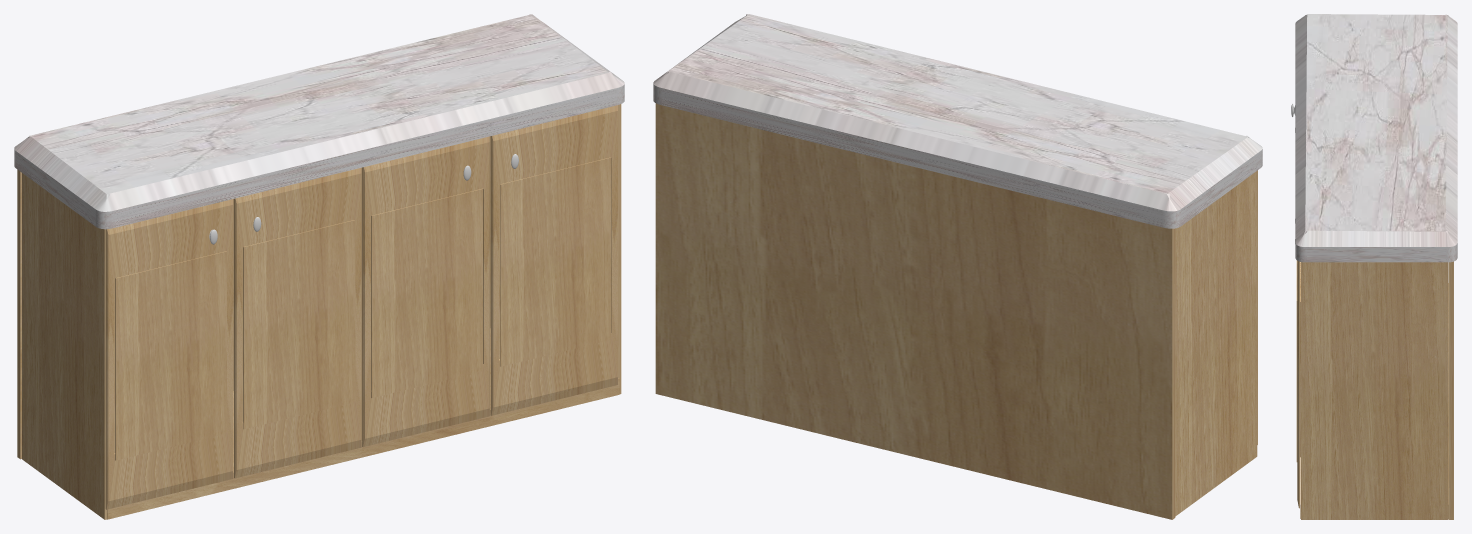
Rendered from longcabinet.FBX.
3 renders of one model, left to right at view 1: azimuth 30°, elevation 25°; view 2: azimuth 150°, elevation 25°; view 3: azimuth 270°, elevation 25°, orthographic. The views are drawn at different scales.
Parts seen in each view (by area): view 1: tableTop, Left, plane001, plane002, plane, plane003, door1, door4, door2, door3, Base, Back (+1 smaller); view 2: Back, tableTop, Left; view 3: tableTop, Right, Back, door4, plane003, Base.
Boxes of the visible parts, x1,y1,x2,y2 form: tableTop: (14,14,624,229); Left: (22,173,106,519); plane001: (243,220,355,429); plane002: (371,188,482,397); plane: (115,251,226,460); plane003: (500,157,611,366); door1: (105,199,233,509); door4: (490,105,617,415); door2: (234,167,361,478); door3: (362,136,489,446); Base: (107,328,619,519); Back: (17,136,490,459); Back: (655,103,1175,519); tableTop: (653,14,1262,228); Left: (1175,171,1257,516); tableTop: (1295,14,1457,262); Right: (1301,262,1447,519); Back: (1448,261,1453,519); door4: (1297,261,1300,508); plane003: (1296,260,1297,461); Base: (1300,283,1448,518).
Size of the model in its own units: 1507 by 878 by 465.
Materials: 2 (2 with a texture image).
